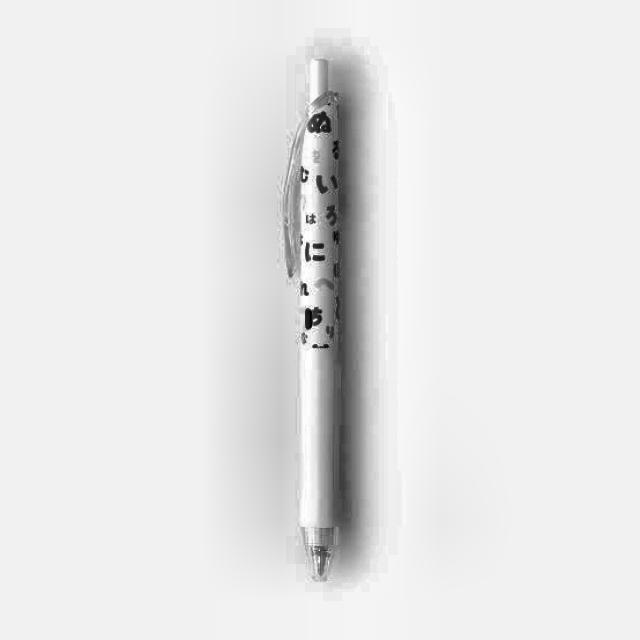Pen: (282, 52, 360, 585)
